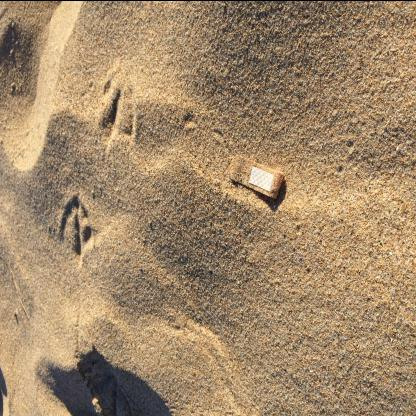diger: (229, 154, 284, 198)
